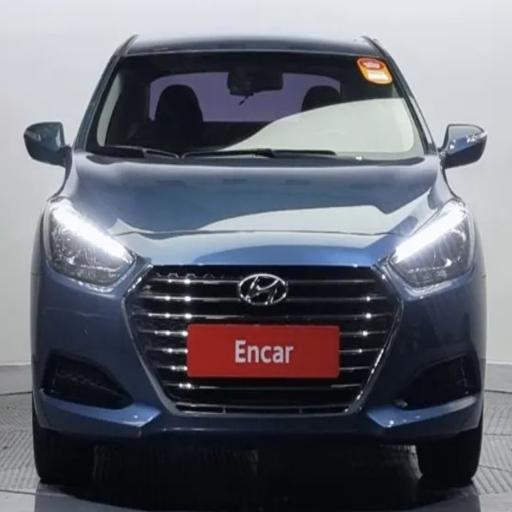normal: (29, 22, 504, 496)
